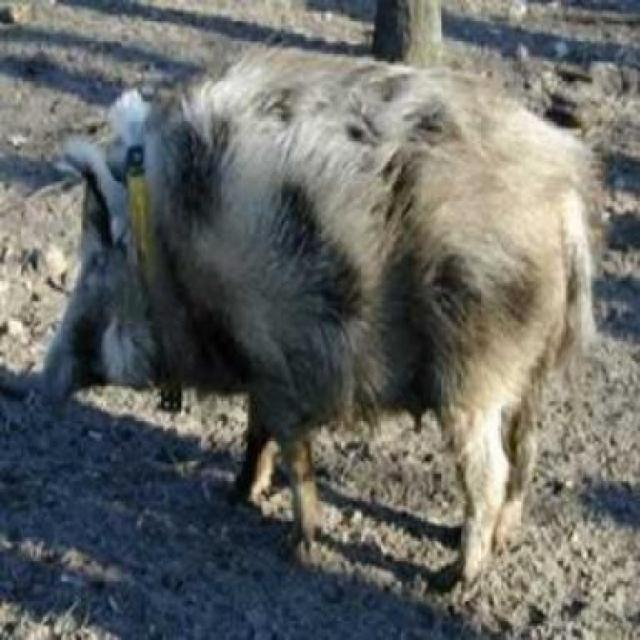pig: (12, 52, 628, 576)
